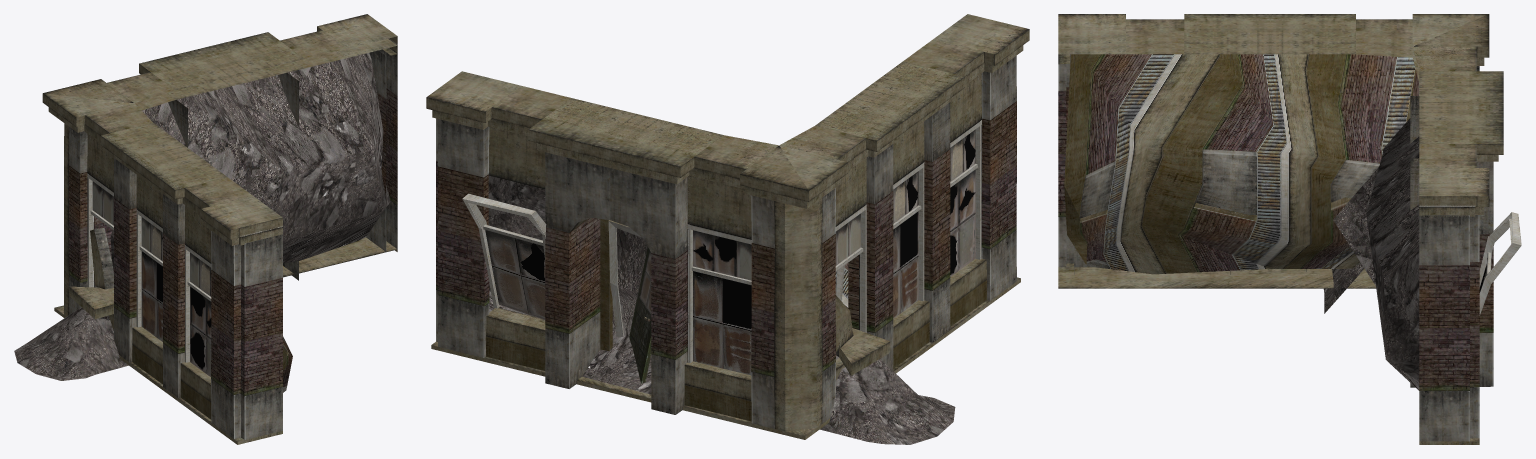
File: Corner_Building_Part_05_Base.fbx
The picture shows the model from 3 angles, left to right: view 1: azimuth 30°, elevation 25°; view 2: azimuth 150°, elevation 25°; view 3: azimuth 270°, elevation 25°; orthographic projection. The views are drawn at different scales.
Visible parts, largest first — view 1: Corner_Building_Part_05_Base; view 2: Corner_Building_Part_05_Base; view 3: Corner_Building_Part_05_Base.
Boxes of the visible parts, x1,y1,x2,y2 form: Corner_Building_Part_05_Base: [14, 14, 397, 444]; Corner_Building_Part_05_Base: [426, 14, 1029, 444]; Corner_Building_Part_05_Base: [1058, 14, 1521, 444].
Bounding box in the file's own units: 864 × 469 × 770.
